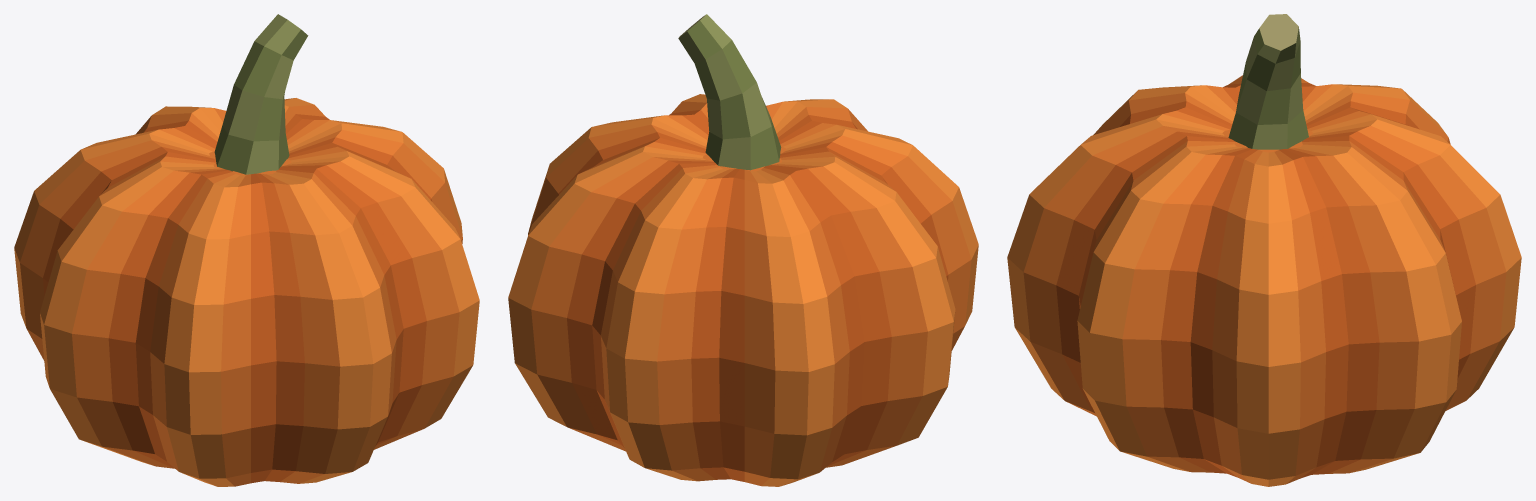
File: pumpkin_low_poly.glb
The picture shows the model from 3 angles, left to right: view 1: azimuth 30°, elevation 25°; view 2: azimuth 150°, elevation 25°; view 3: azimuth 270°, elevation 25°; orthographic projection. The views are drawn at different scales.
Parts seen in each view (by area): view 1: Pumpkin_Body, Pumpkin_Stem; view 2: Pumpkin_Body, Pumpkin_Stem; view 3: Pumpkin_Body, Pumpkin_Stem.
Part boxes in pixels (x1,y1,x2,y2): Pumpkin_Body: [14, 98, 479, 486]; Pumpkin_Stem: [214, 14, 308, 174]; Pumpkin_Body: [508, 94, 978, 486]; Pumpkin_Stem: [678, 14, 781, 170]; Pumpkin_Body: [1007, 75, 1521, 486]; Pumpkin_Stem: [1228, 14, 1308, 149].
Size of the model in its own units: 2.14 by 2.09 by 2.14.
